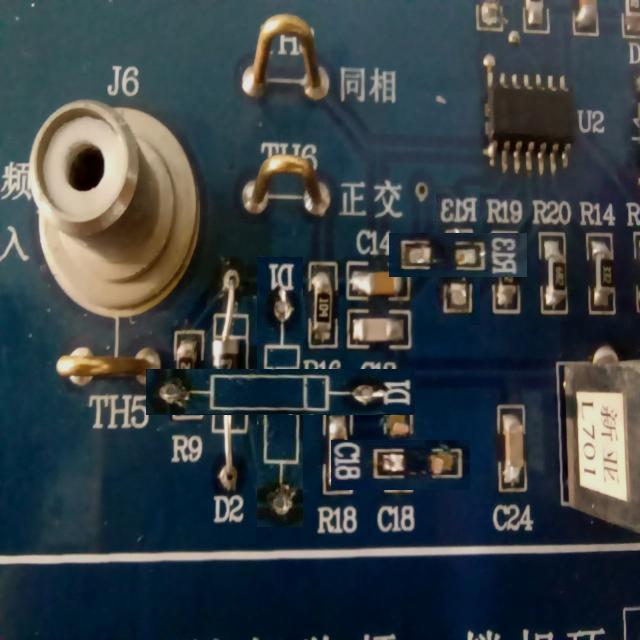miss_welding: (202, 314, 360, 472), (352, 418, 448, 512), (412, 210, 504, 301)
